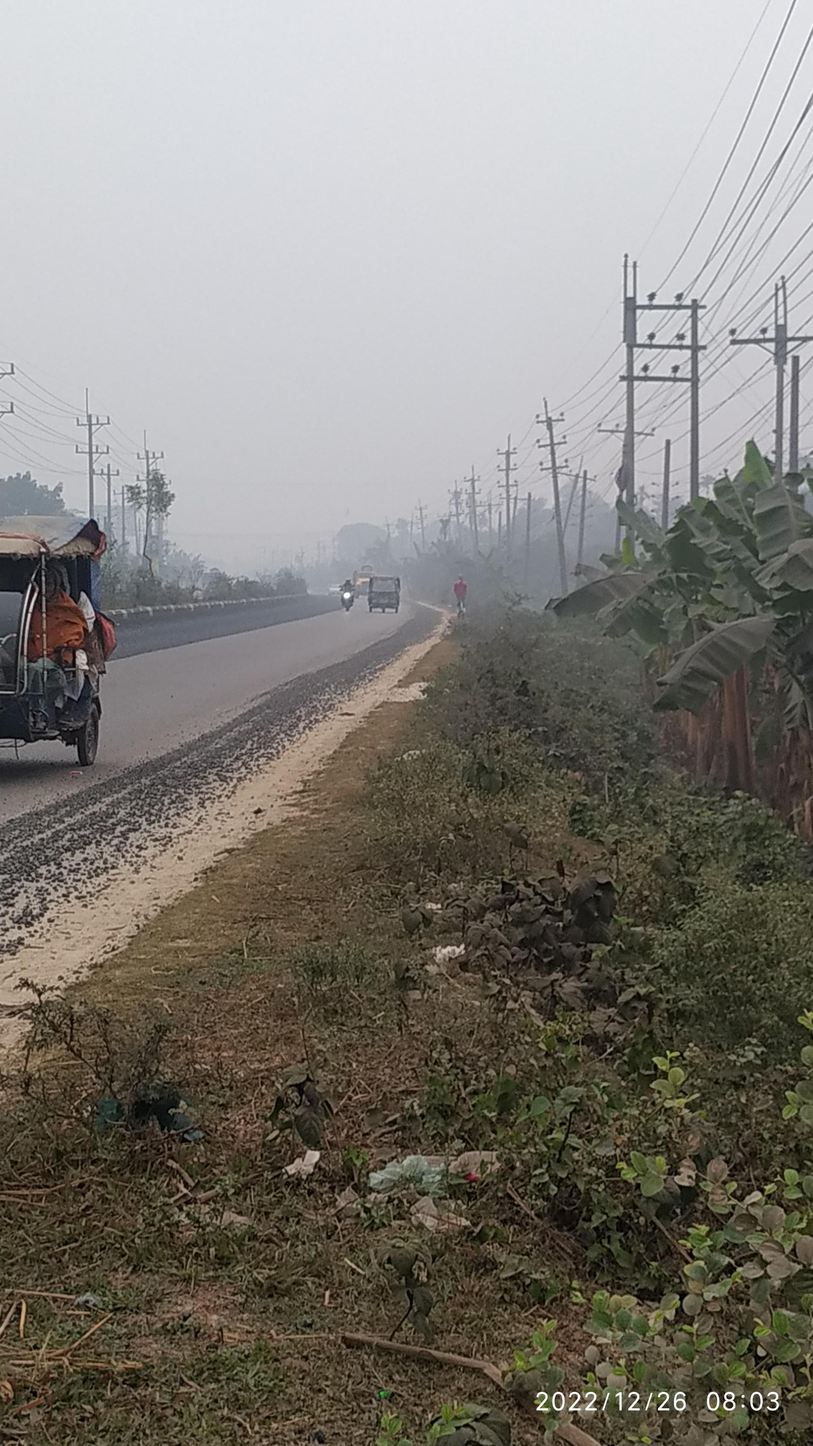Bike: (331, 580, 360, 620)
Car: (6, 497, 117, 783)
